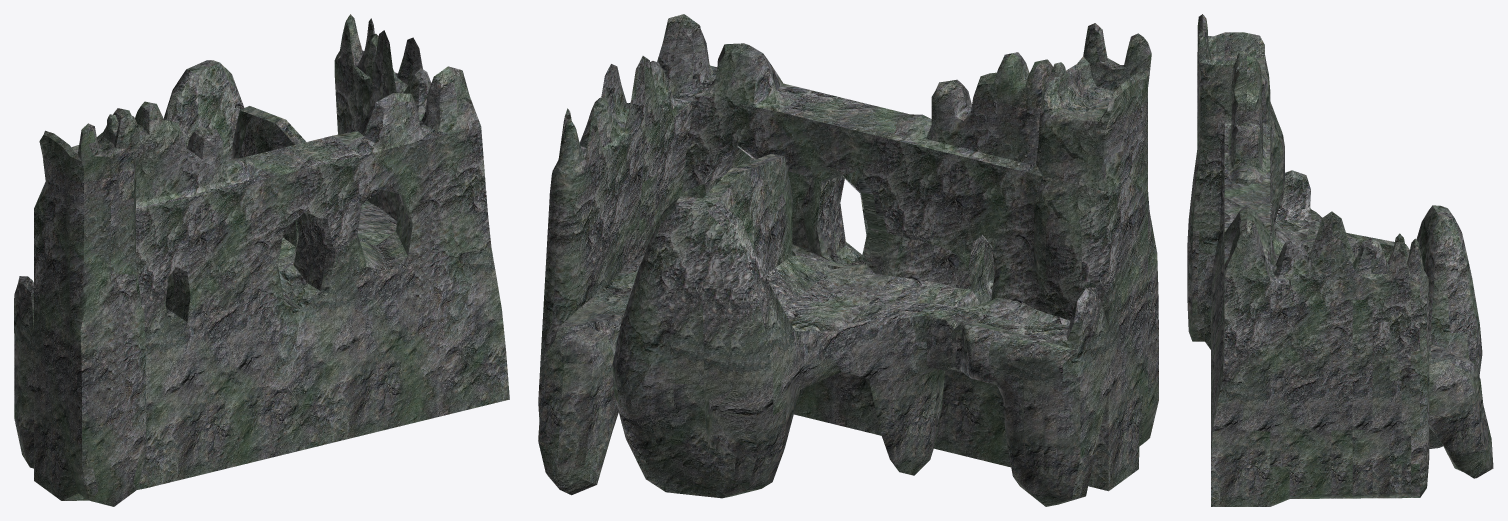
Rendered from BallycarberyCastleRuin.fbx.
3 views of the same model, side by side, from view 1: azimuth 30°, elevation 25°; view 2: azimuth 150°, elevation 25°; view 3: azimuth 270°, elevation 25° (orthographic). The views are drawn at different scales.
Parts seen in each view (by area): view 1: Box001; view 2: Box001; view 3: Box001.
Boxes of the visible parts, bbox=[...] form: Box001: bbox=[14, 14, 509, 506]; Box001: bbox=[538, 14, 1158, 506]; Box001: bbox=[1187, 14, 1493, 506].
Bounding box in the file's own units: 77.44 × 66.41 × 56.
Materials: 1 (1 with a texture image).
